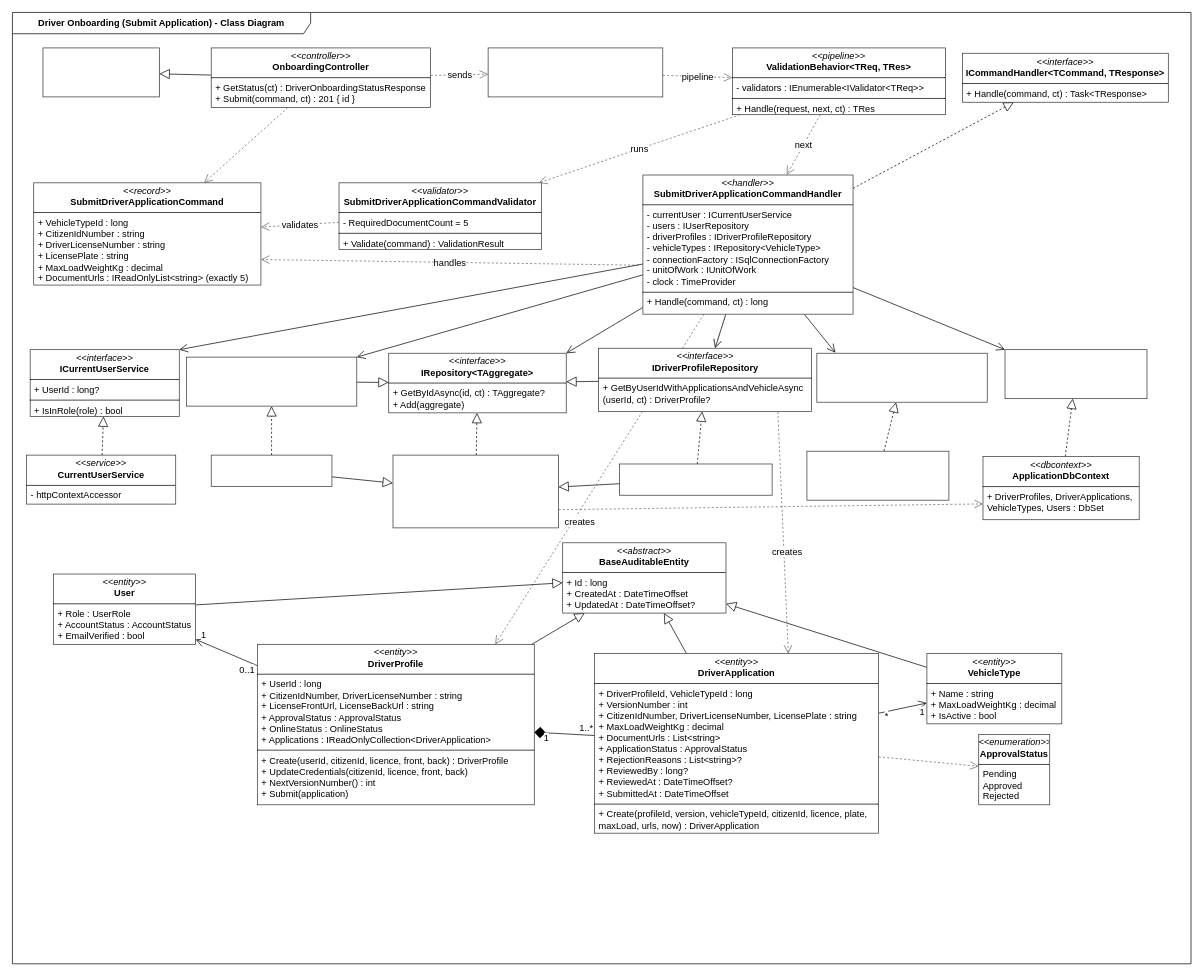
The diagram is 1203 pixels wide and 976 high, and some of its shapes have lost their labels. The centre of each missing label's shape, as x and y in pixels:
"<<abstract>> ApiControllerBase # Sender : ISender" belongs at [100,72].
"<<interface>> ISqlConnectionFactory + CreateConnection() : IDbConnection" belongs at [901,377].
"<<interface>> IUnitOfWork + SaveChangesAsync(ct) : int" belongs at [1075,374].
"<<interface>> IUserRepository + GetByEmailAsync(email, ct) : User?" belongs at [271,381].
"<<mediator>> ISender (MediatR) + Send(request, ct) : Task<TResponse>" belongs at [575,72].
"<<repository>> DriverProfileRepository" belongs at [695,479].
"<<repository>> Repository<TAggregate> # dbContext : ApplicationDbContext" belongs at [475,491].
"<<repository>> UserRepository" belongs at [271,470].
"<<service>> SqlConnectionFactory - connectionString" belongs at [877,475].
